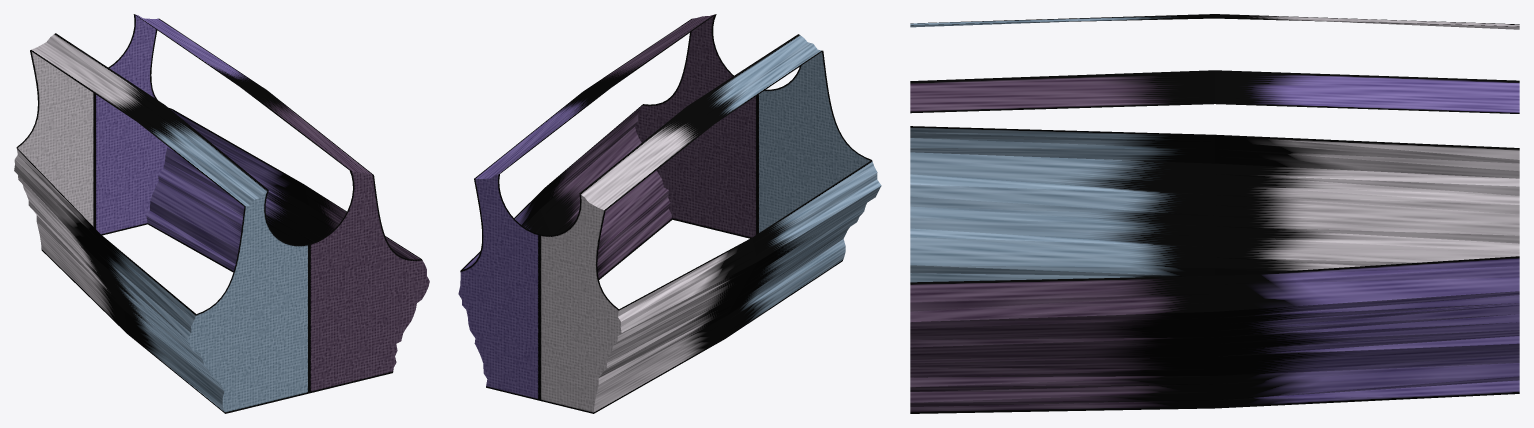
The model's file is tank_knit4_a84_boxmesh.obj.
3 views of the same model, side by side, from view 1: azimuth 30°, elevation 25°; view 2: azimuth 150°, elevation 25°; view 3: azimuth 270°, elevation 25° (orthographic). The views are drawn at different scales.
Bounding box in the file's own units: 35.95 × 31.16 × 55.
1 material, 1 textured.
